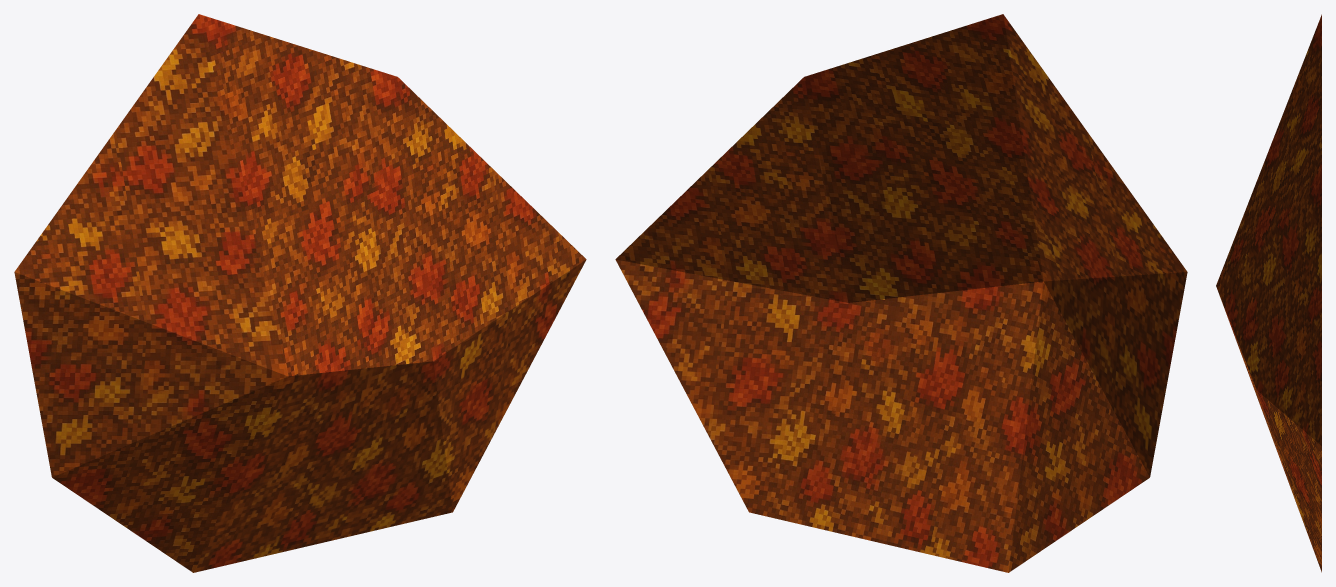
File: leafpile.glb
3 views of the same model, side by side, from view 1: azimuth 30°, elevation 25°; view 2: azimuth 150°, elevation 25°; view 3: azimuth 270°, elevation 25° (orthographic). The views are drawn at different scales.
Visible parts, largest first — view 1: leafpile; view 2: leafpile; view 3: leafpile.
Part boxes in pixels (x1,y1,x2,y2): leafpile: (14,14,586,572); leafpile: (615,14,1187,572); leafpile: (1216,14,1321,572).
Size of the model in its own units: 3.98 by 3.73 by 0.7822.
1 material, 1 textured.
